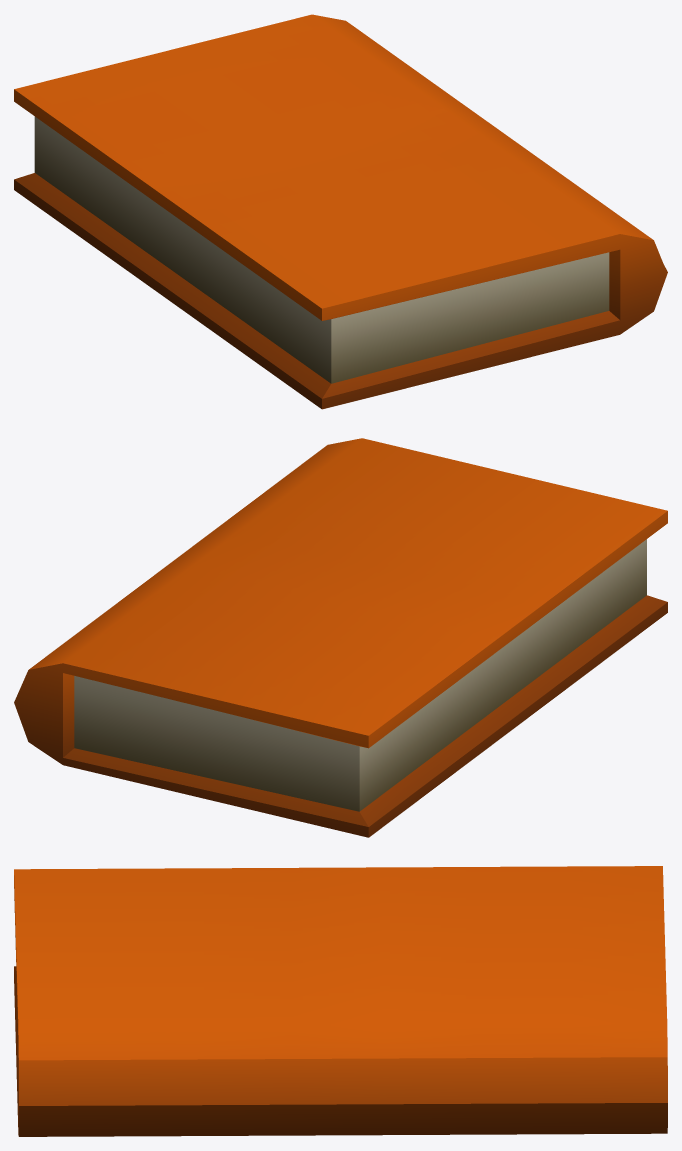
Rendered from BookBig.fbx.
The picture shows the model from 3 angles, top to bottom: view 1: azimuth 30°, elevation 25°; view 2: azimuth 150°, elevation 25°; view 3: azimuth 270°, elevation 25°; orthographic projection. The views are drawn at different scales.
Parts seen in each view (by area): view 1: BookBig; view 2: BookBig; view 3: BookBig.
Part boxes in pixels (x1,y1,x2,y2): BookBig: [14, 14, 667, 409]; BookBig: [14, 438, 667, 837]; BookBig: [14, 866, 667, 1136].
Size of the model in its own units: 0.1886 by 0.2804 by 0.0512.
